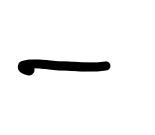minus: (18, 59, 112, 78)
